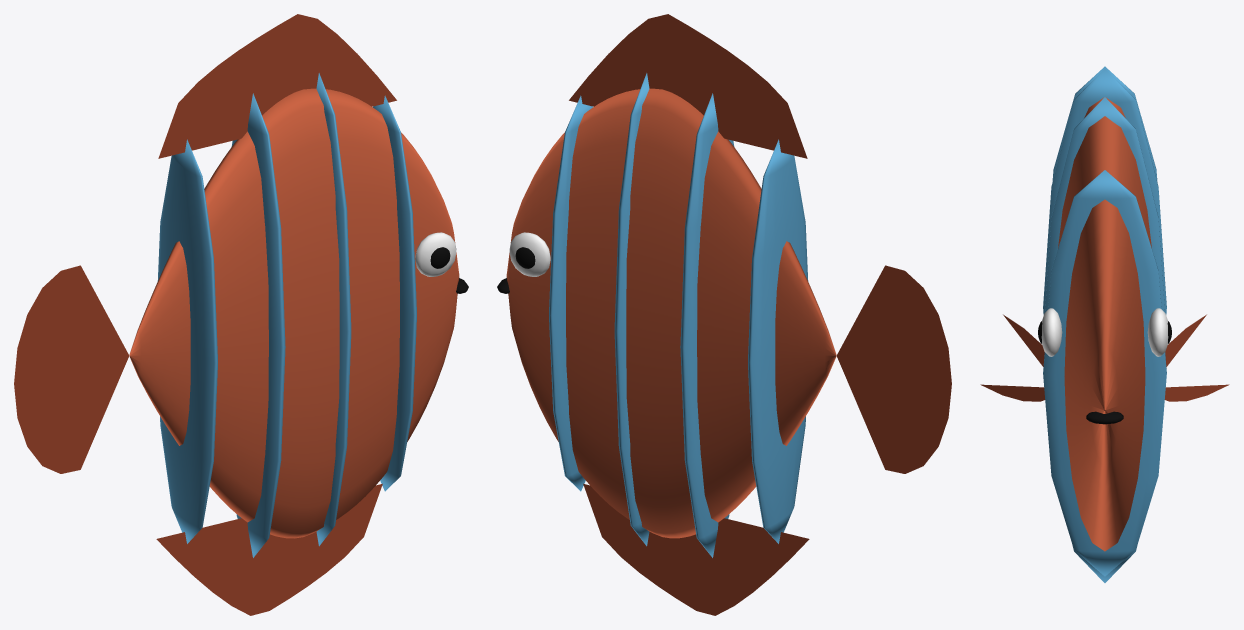
Rendered from discus.glb.
3 renders of one model, left to right at view 1: azimuth 30°, elevation 25°; view 2: azimuth 150°, elevation 25°; view 3: azimuth 270°, elevation 25°, orthographic. The views are drawn at different scales.
Parts seen in each view (by area): view 1: discus; view 2: discus; view 3: discus.
Part boxes in pixels (x1=…): discus: x1=14, y1=14, x2=468, y2=615; discus: x1=497, y1=14, x2=951, y2=615; discus: x1=980, y1=66, x2=1229, y2=582.
Size of the model in its own units: 1.09 by 1.37 by 0.5121.
